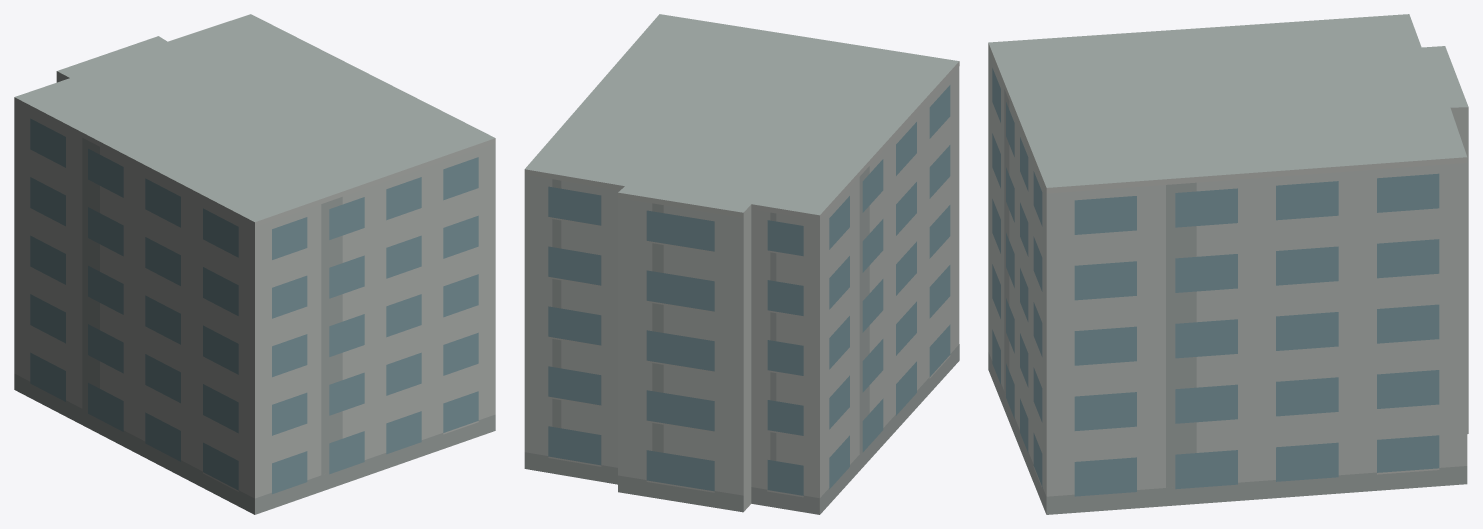
The model's file is survey-upis-32769513.glb.
3 views of the same model, side by side, from view 1: azimuth 30°, elevation 25°; view 2: azimuth 150°, elevation 25°; view 3: azimuth 270°, elevation 25° (orthographic). The views are drawn at different scales.
Parts seen in each view (by area): view 1: survey-upis-32769513.tmp; view 2: survey-upis-32769513.tmp; view 3: survey-upis-32769513.tmp.
Boxes of the visible parts, x1=… form: survey-upis-32769513.tmp: x1=14, y1=14, x2=495, y2=514; survey-upis-32769513.tmp: x1=524, y1=14, x2=959, y2=514; survey-upis-32769513.tmp: x1=988, y1=14, x2=1468, y2=514.
Bounding box in the file's own units: 15.87 × 13.9 × 18.52.
